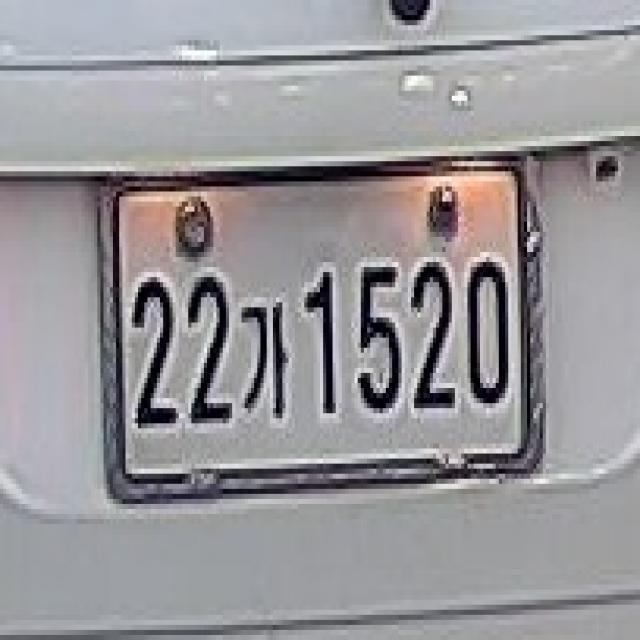0: (459, 241, 512, 421)
1: (301, 251, 345, 434)
2: (128, 263, 184, 445), (182, 257, 237, 440), (410, 244, 464, 427)
5: (353, 252, 407, 428)
ga: (240, 283, 295, 432)
license_plate: (118, 168, 524, 477)
